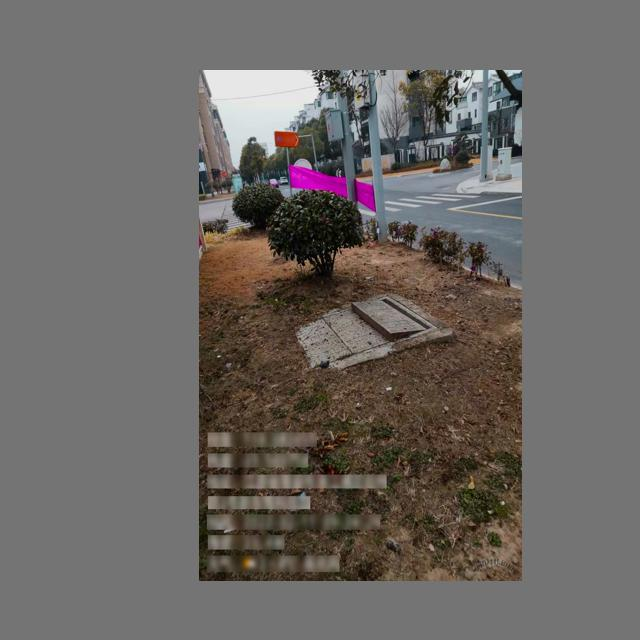uncovered: (296, 296, 438, 370)
